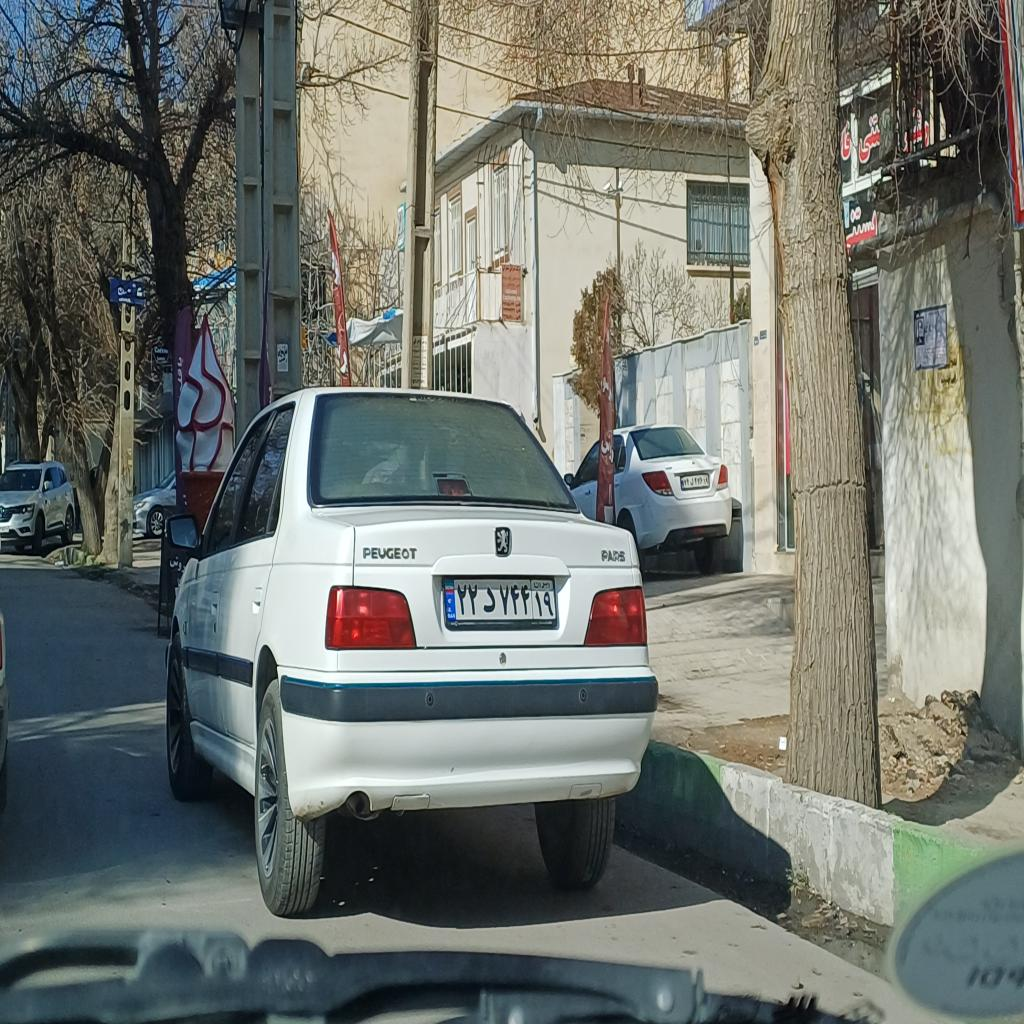Plates: (442, 576, 558, 623)
